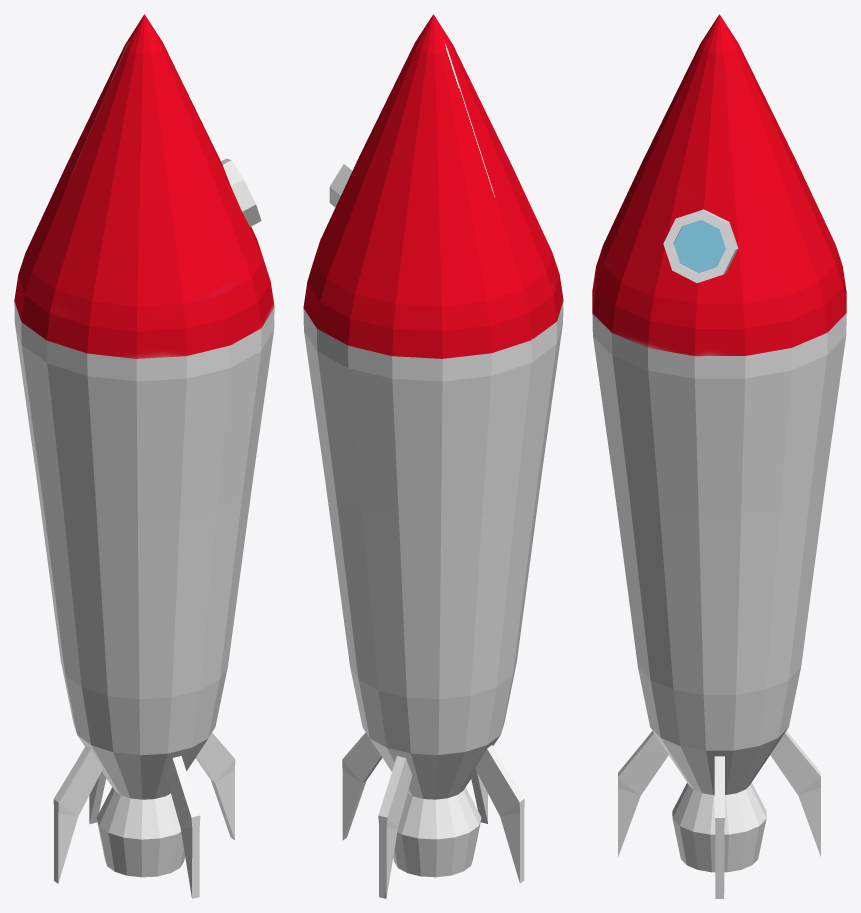
Rendered from rocket_trims3.glb.
3 views of the same model, side by side, from view 1: azimuth 30°, elevation 25°; view 2: azimuth 150°, elevation 25°; view 3: azimuth 270°, elevation 25° (orthographic).
Visible parts, largest first — view 1: rocket; view 2: rocket; view 3: rocket.
Part boxes in pixels (left/top/right/bottom): rocket: left=14, top=14, right=274, bottom=898; rocket: left=303, top=14, right=563, bottom=898; rocket: left=592, top=14, right=846, bottom=898.
Bounding box in the file's own units: 0.4024 × 1.47 × 0.4024.
1 material, 1 textured.
